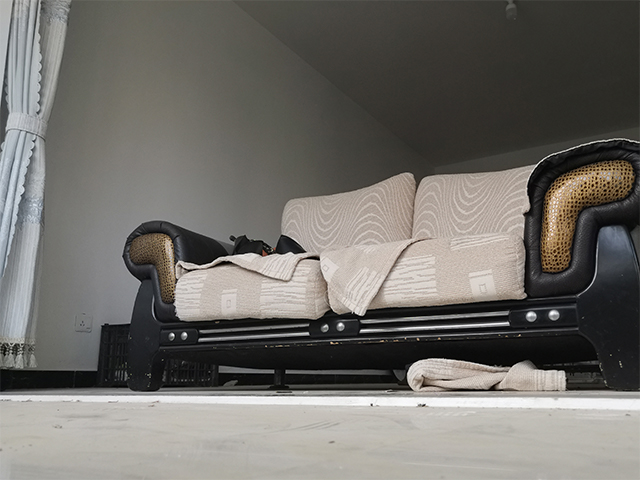curtain: (1, 1, 75, 371)
sofa: (121, 134, 640, 393)
